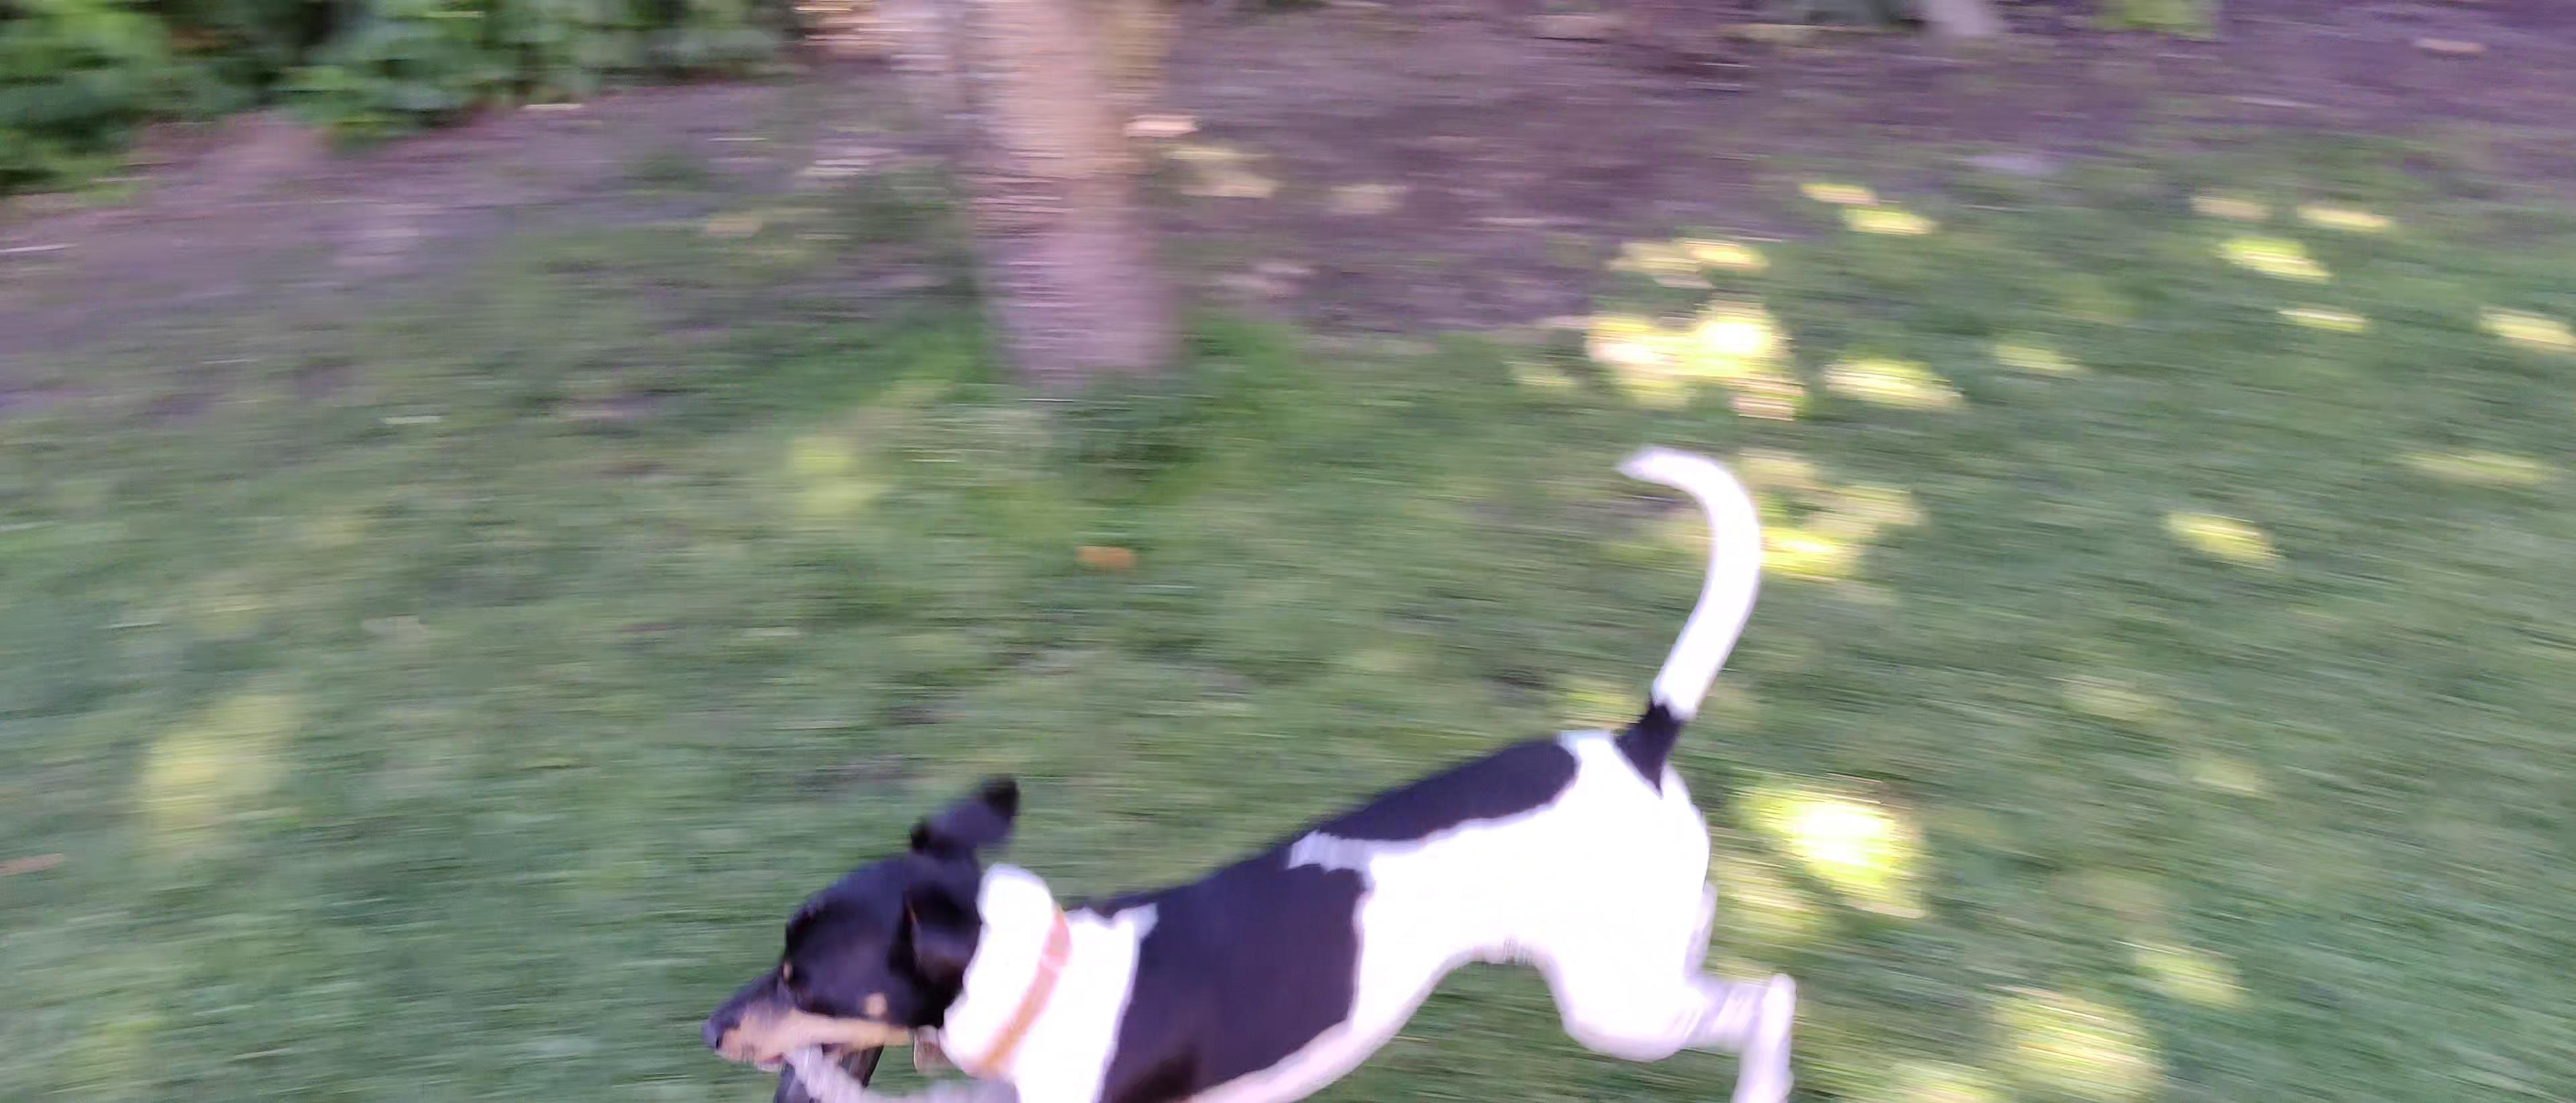Dog: (670, 431, 1860, 1103)
